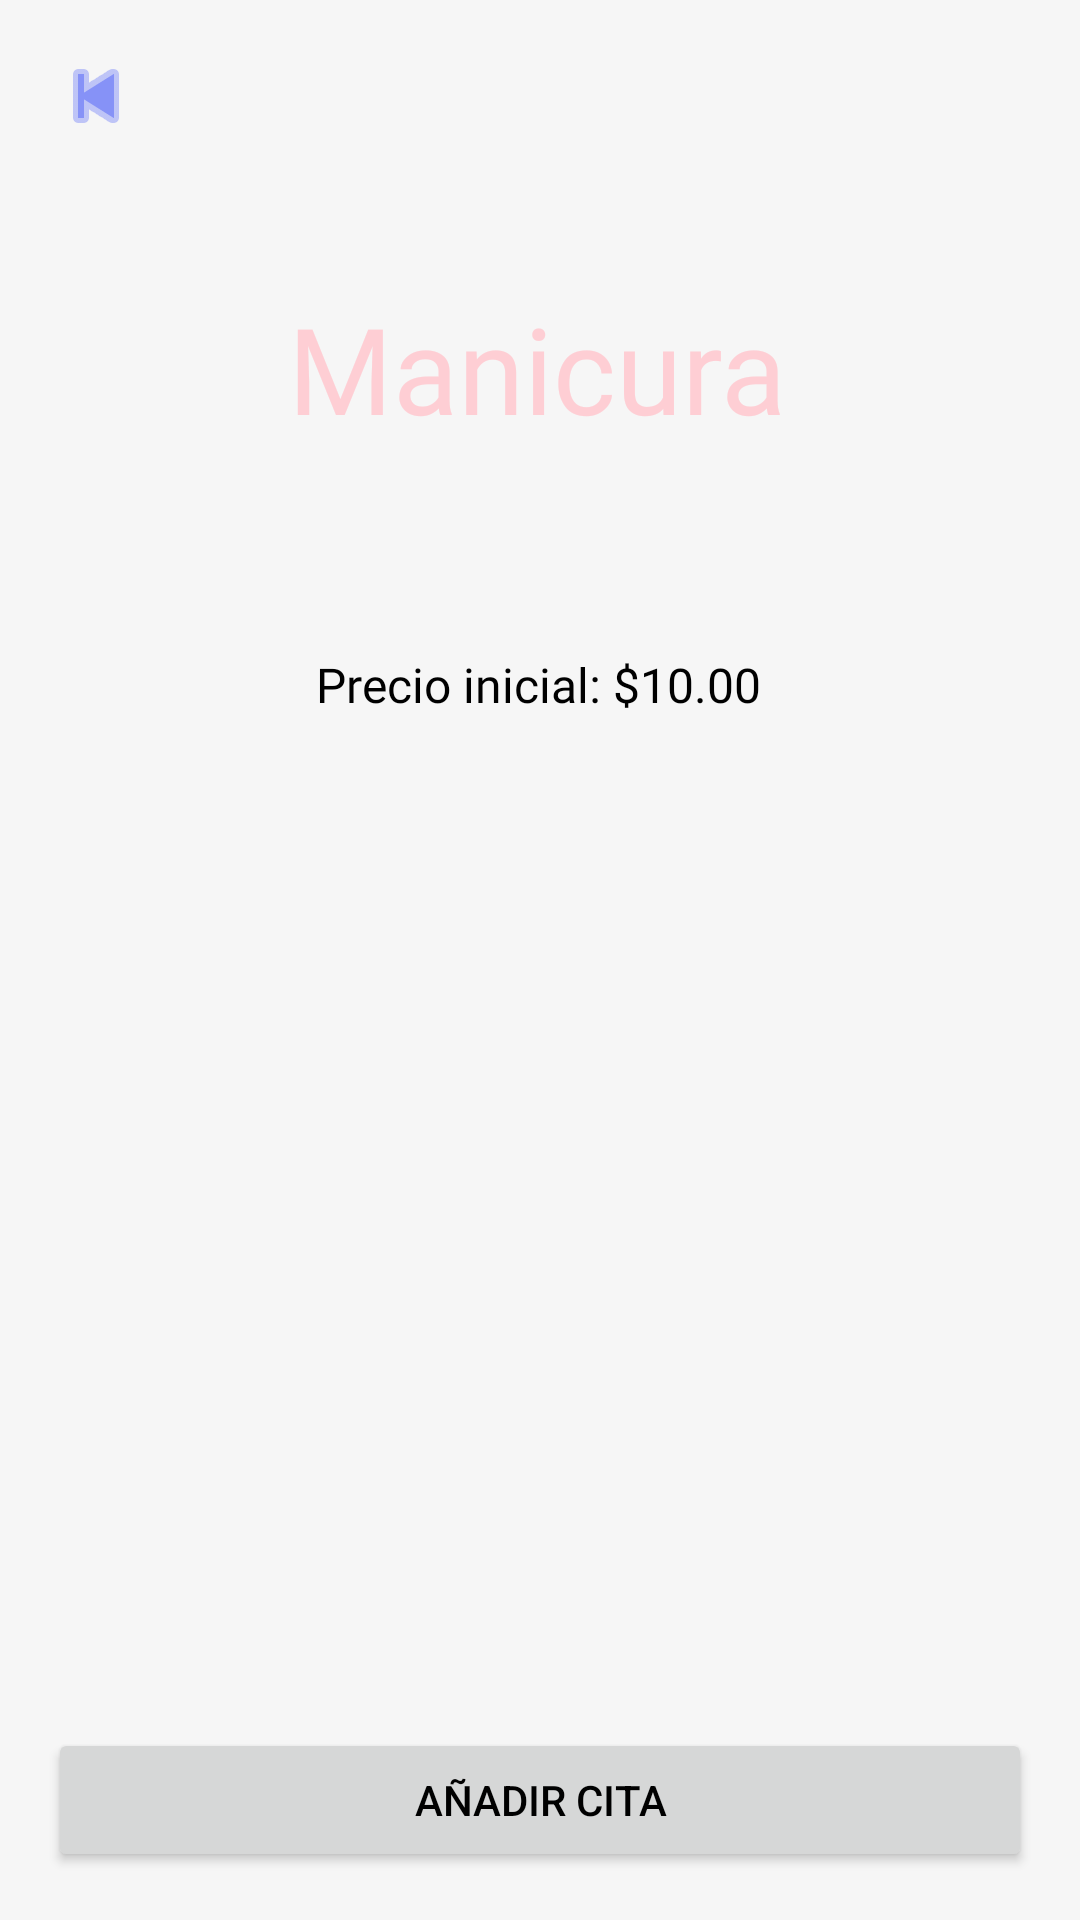

Icon click points for this 1080x1920 phone screenshot, format [x,y]:
previous: [96,96]
